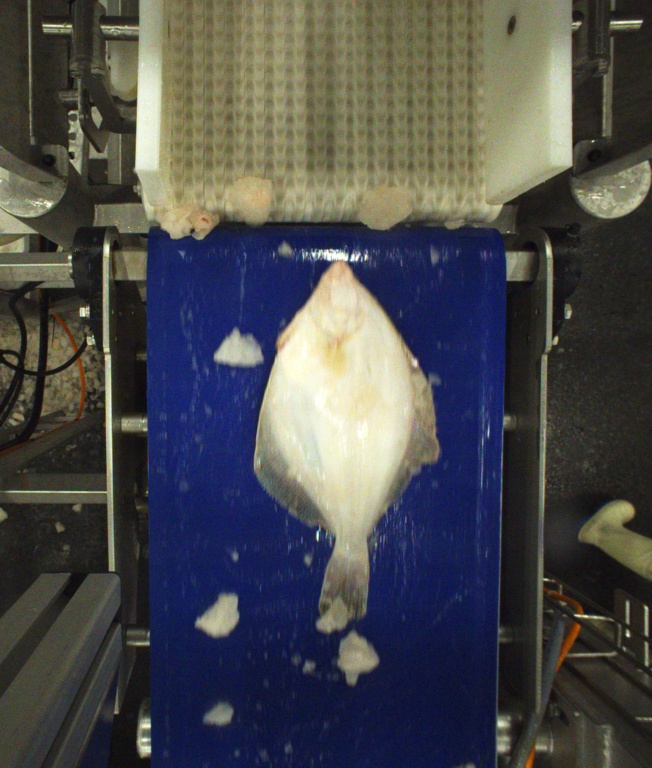PLE: (250, 261, 440, 625)
